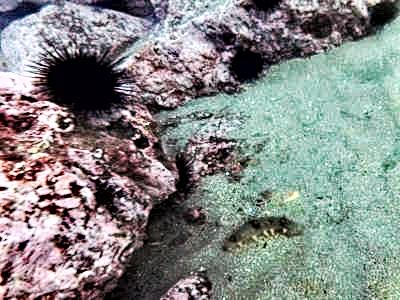urchin: (32, 43, 124, 112), (229, 48, 260, 82)
